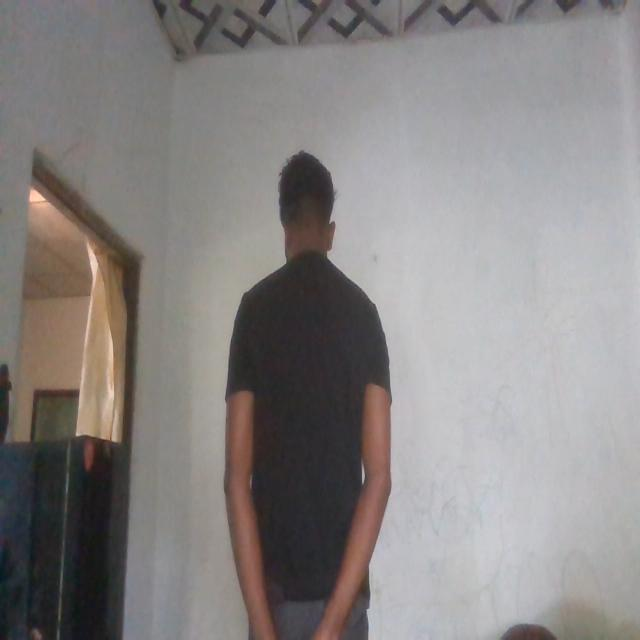Person: (216, 142, 402, 640)
